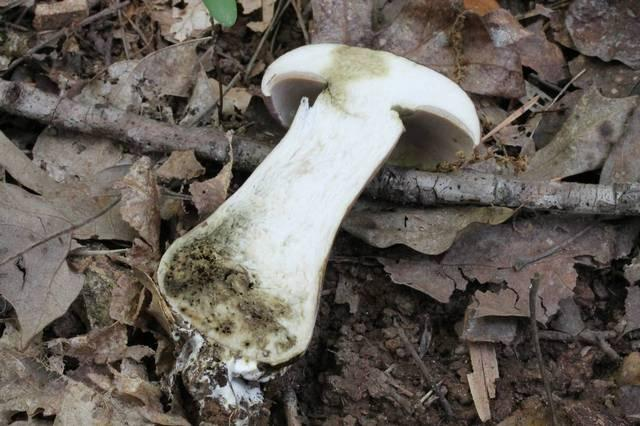poisonous_mushroom: (154, 40, 482, 376)
